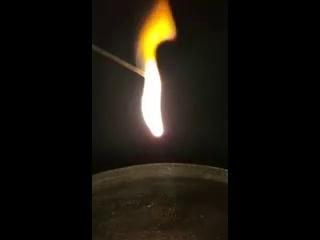Fire: (138, 36, 165, 137)
